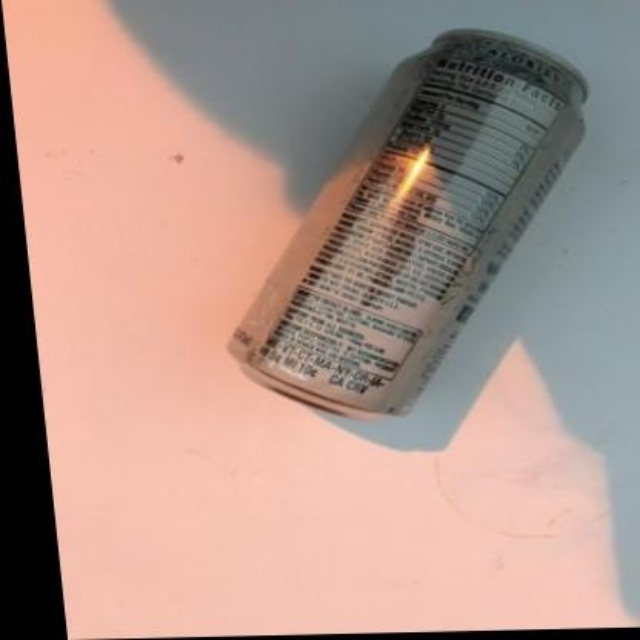trash: (228, 29, 586, 415)
